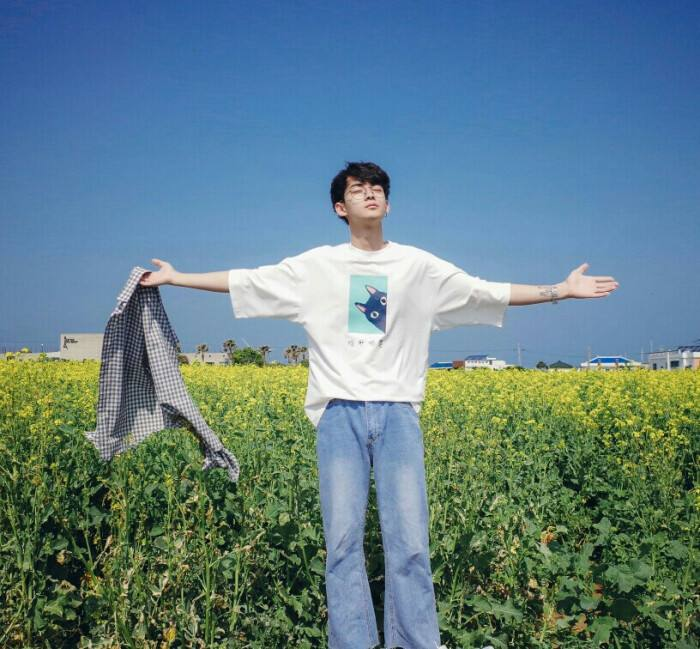person: (217, 120, 481, 398)
